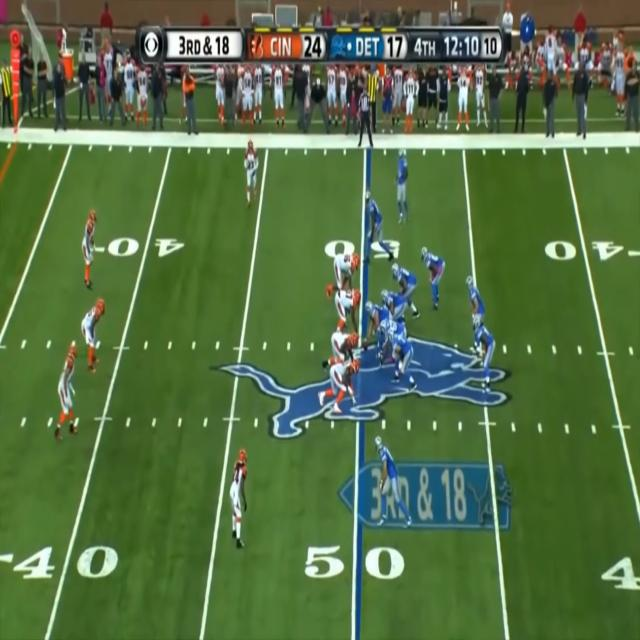players: (224, 444, 253, 556), (52, 345, 84, 446), (373, 438, 405, 525), (74, 202, 102, 296), (472, 316, 503, 396), (364, 194, 399, 262), (80, 297, 108, 377), (324, 352, 356, 415), (390, 260, 420, 324), (391, 147, 414, 230), (418, 246, 446, 313), (386, 320, 414, 385), (328, 248, 362, 300), (466, 275, 487, 358), (366, 297, 393, 360), (242, 137, 263, 213), (329, 289, 362, 337), (328, 331, 362, 369), (380, 286, 410, 329)
